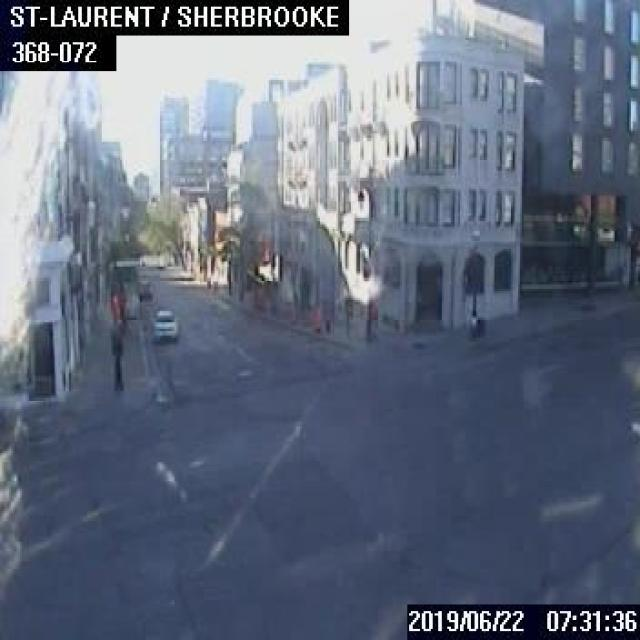vehicle: (151, 309, 178, 338), (138, 278, 151, 299)
